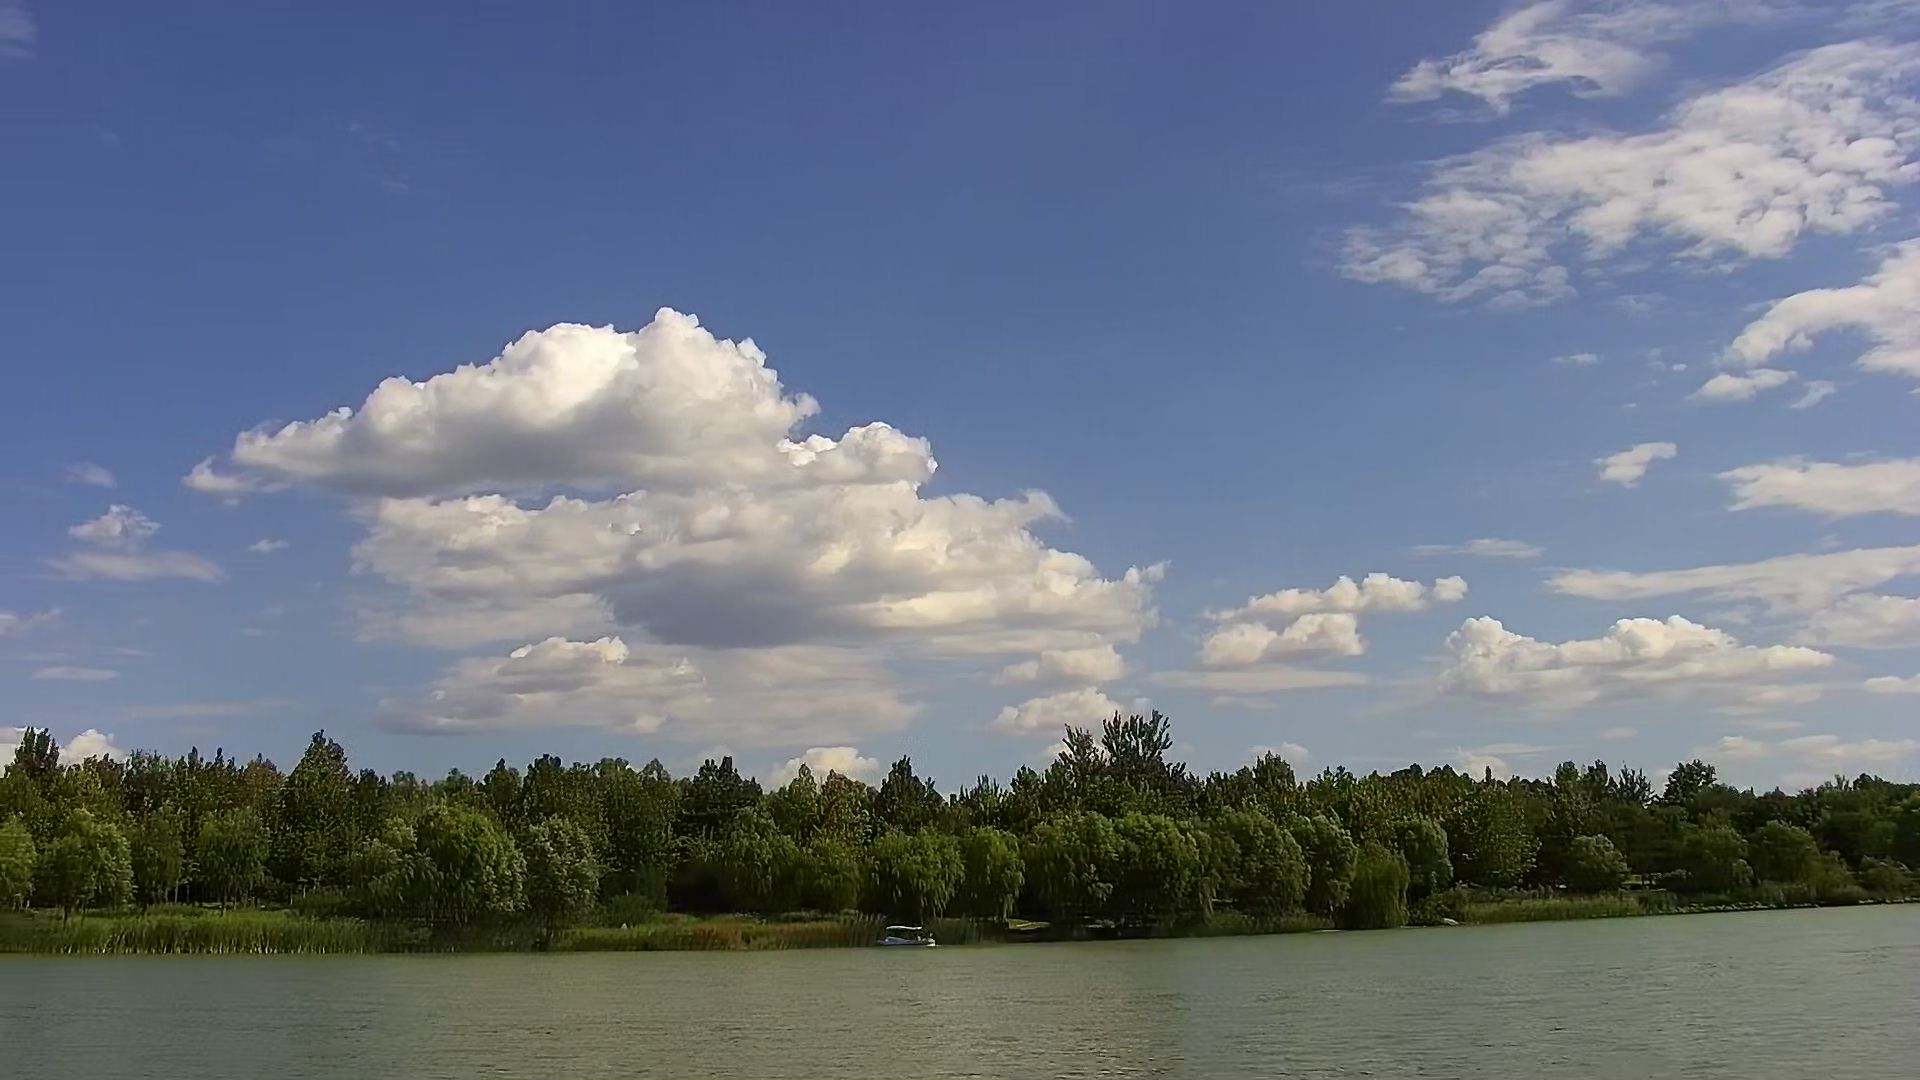boat: (876, 923, 942, 951)
